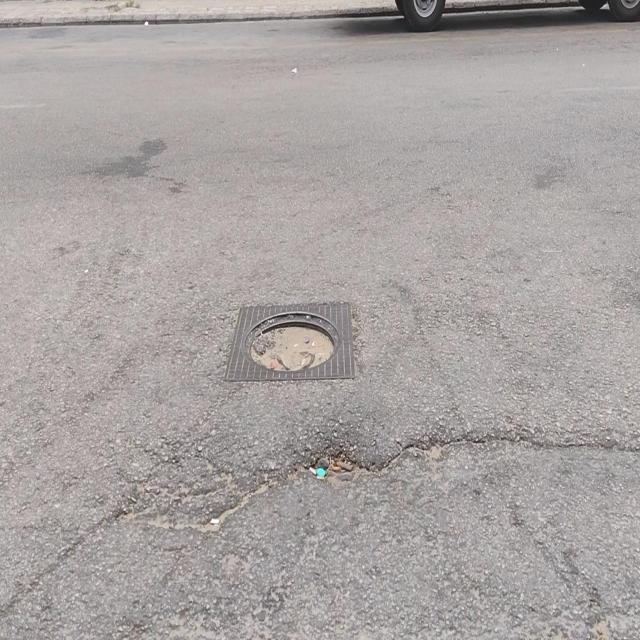Potholes: (243, 313, 340, 378)
